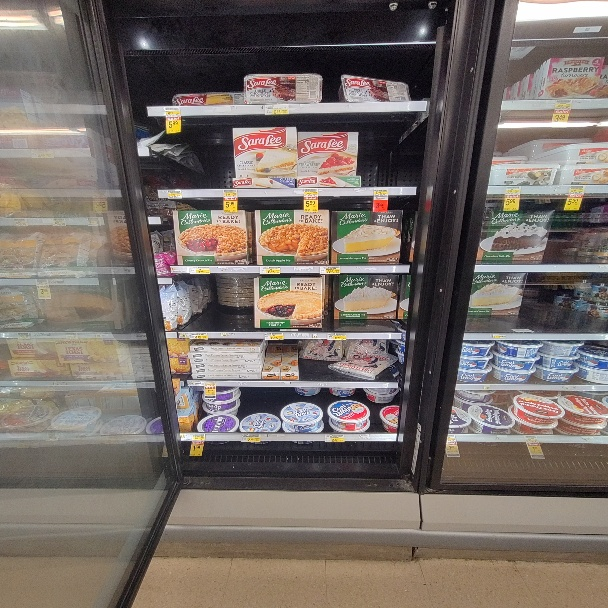All PRICE TAGS: (31, 149, 54, 158), (264, 106, 288, 114), (241, 433, 260, 442), (320, 266, 341, 274), (260, 266, 280, 274), (325, 434, 344, 442), (190, 266, 211, 273), (164, 189, 182, 197), (570, 185, 584, 195), (164, 108, 181, 116), (556, 99, 571, 108), (304, 332, 323, 339), (303, 189, 319, 197), (329, 332, 347, 339), (265, 332, 283, 339), (505, 186, 520, 194), (46, 432, 59, 441), (93, 190, 107, 198), (52, 218, 66, 226), (223, 189, 237, 197), (374, 189, 388, 197), (190, 333, 208, 339), (524, 435, 539, 442), (88, 218, 101, 226), (14, 218, 26, 226), (192, 434, 205, 441), (204, 380, 216, 387), (17, 332, 29, 339), (218, 332, 234, 337), (36, 280, 47, 286), (65, 334, 77, 339), (448, 435, 457, 441), (190, 380, 200, 385)
